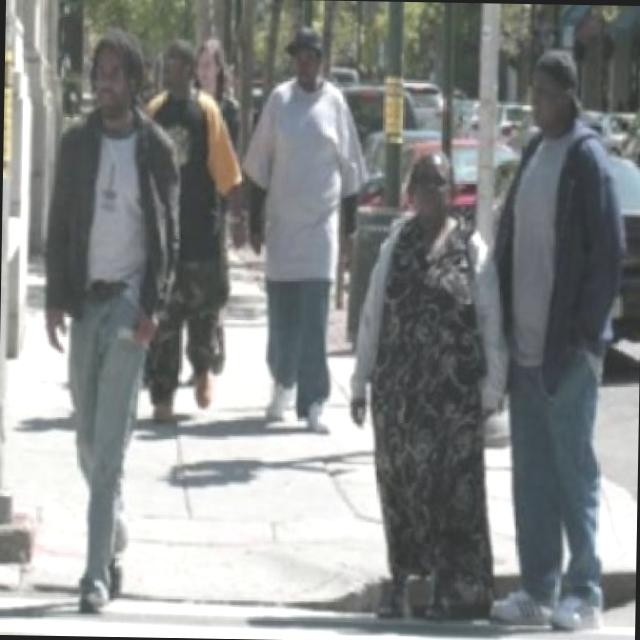Person: (34, 27, 188, 629), (476, 43, 626, 628), (344, 139, 508, 623), (238, 18, 362, 424), (145, 28, 244, 425)
